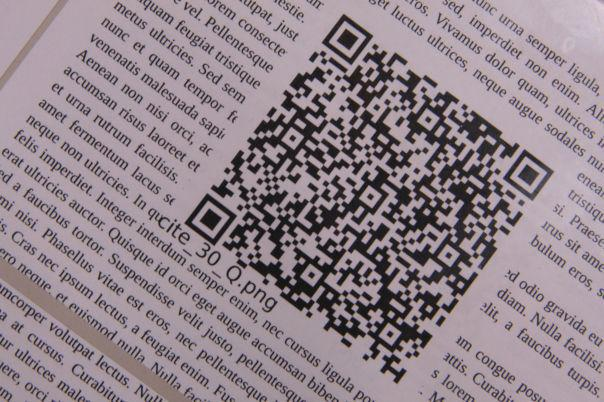Finder pattern: (501, 149, 555, 203), (185, 193, 239, 246), (322, 14, 373, 65)
